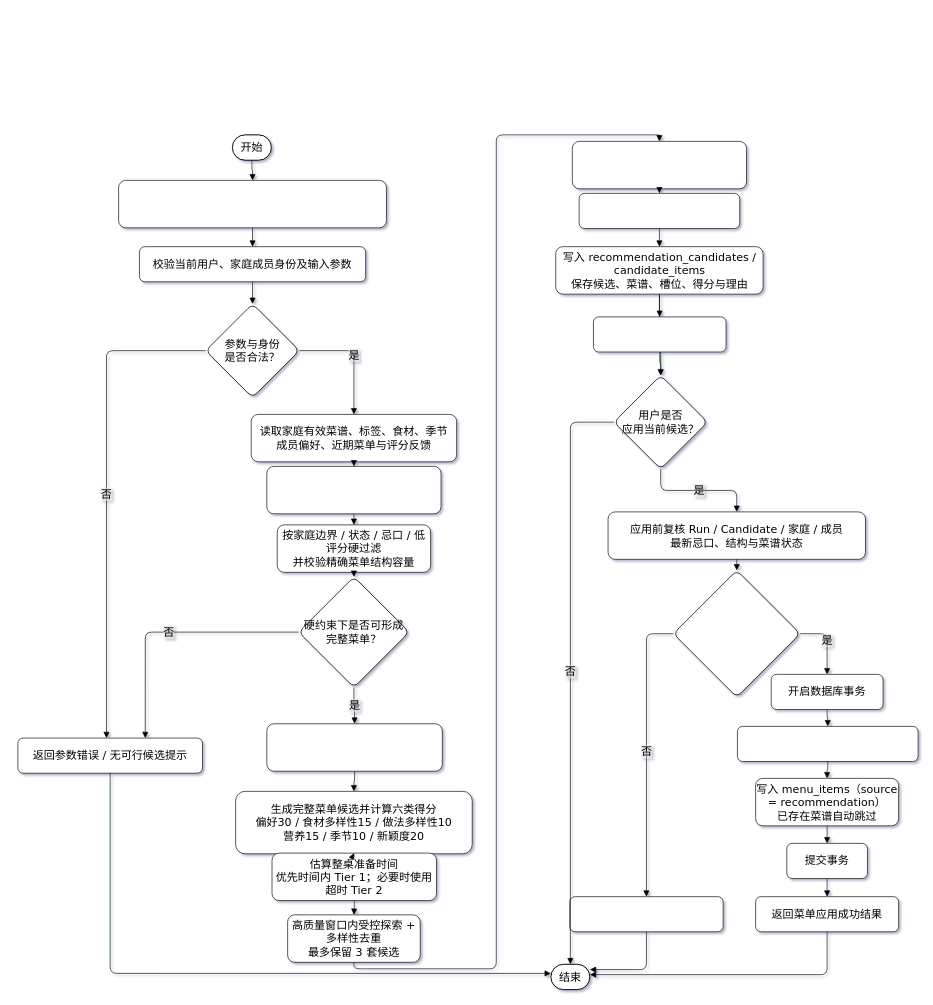
The diagram is 933 pixels wide and 1005 high, and some of its shapes have lost their labels. Each missing label, with the centre of its shape:
写入 recommendation_runs: pixel 659 210
回滚事务并返回候选失效提示: pixel 646 914
当前候选 是否仍然有效？: pixel 736 633
按日期与餐次获取或创建 menus 记录: pixel 827 743
校验 selectedTagIds 并构建 session_preferences: pixel 354 747
汇总 active 成员忌口、家庭类别偏好 及当前用户低评分菜谱: pixel 353 490
生成 Candidate 1 / 2 / 3 分项得分与推荐理由: pixel 659 165
用户设置推荐条件 日期/餐次、selectedTagIds、人数、时间上限、菜单结构: pixel 252 204
返回候选列表，并支持“换一组”: pixel 659 334
